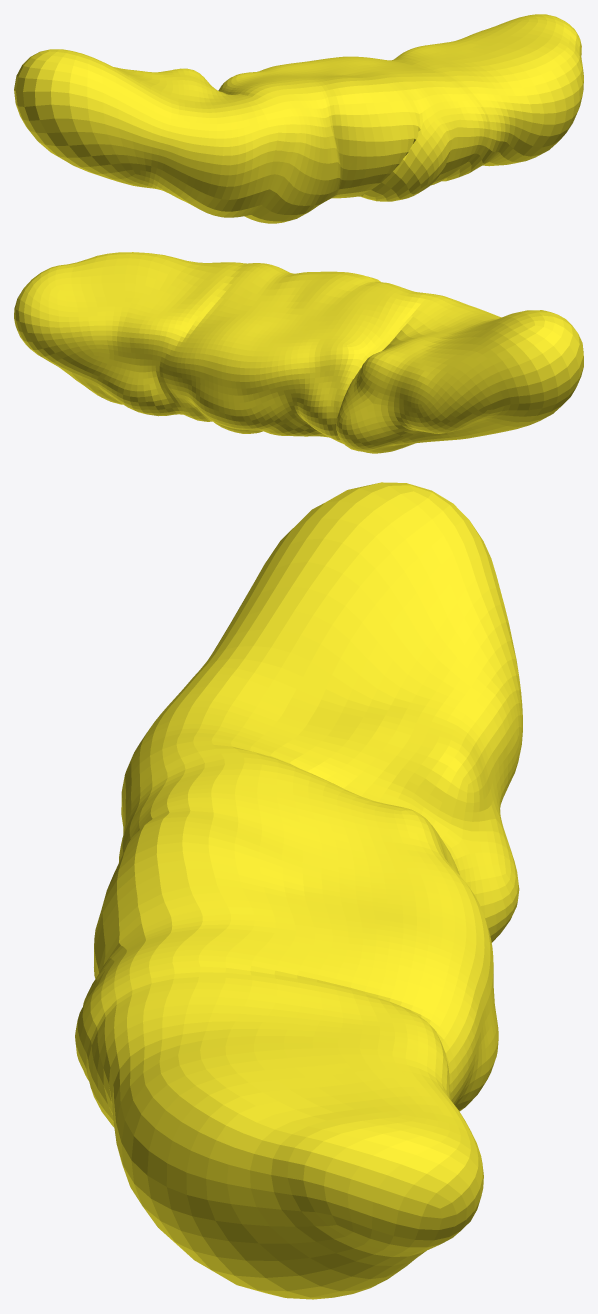
File: 3DPX-023600.glb
3 renders of one model, top to bottom at view 1: azimuth 30°, elevation 25°; view 2: azimuth 150°, elevation 25°; view 3: azimuth 270°, elevation 25°, orthographic. The views are drawn at different scales.
Visible parts, largest first — view 1: VH_F_epiploic_appendage_of_transverse_colon; view 2: VH_F_epiploic_appendage_of_transverse_colon; view 3: VH_F_epiploic_appendage_of_transverse_colon.
Part boxes in pixels (x1,y1,x2,y2): VH_F_epiploic_appendage_of_transverse_colon: (14, 14, 583, 223); VH_F_epiploic_appendage_of_transverse_colon: (14, 252, 583, 453); VH_F_epiploic_appendage_of_transverse_colon: (75, 482, 522, 1299).
Size of the model in its own units: 0.0697 by 0.0235 by 0.0247.
